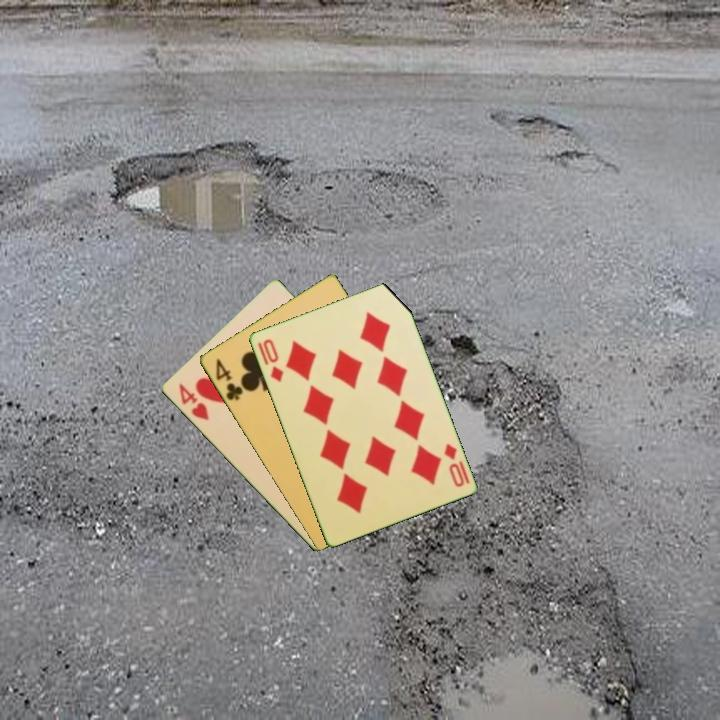10d: (259, 335, 286, 385), (440, 440, 467, 490)
4c: (212, 355, 246, 403)
4h: (175, 380, 212, 423)
